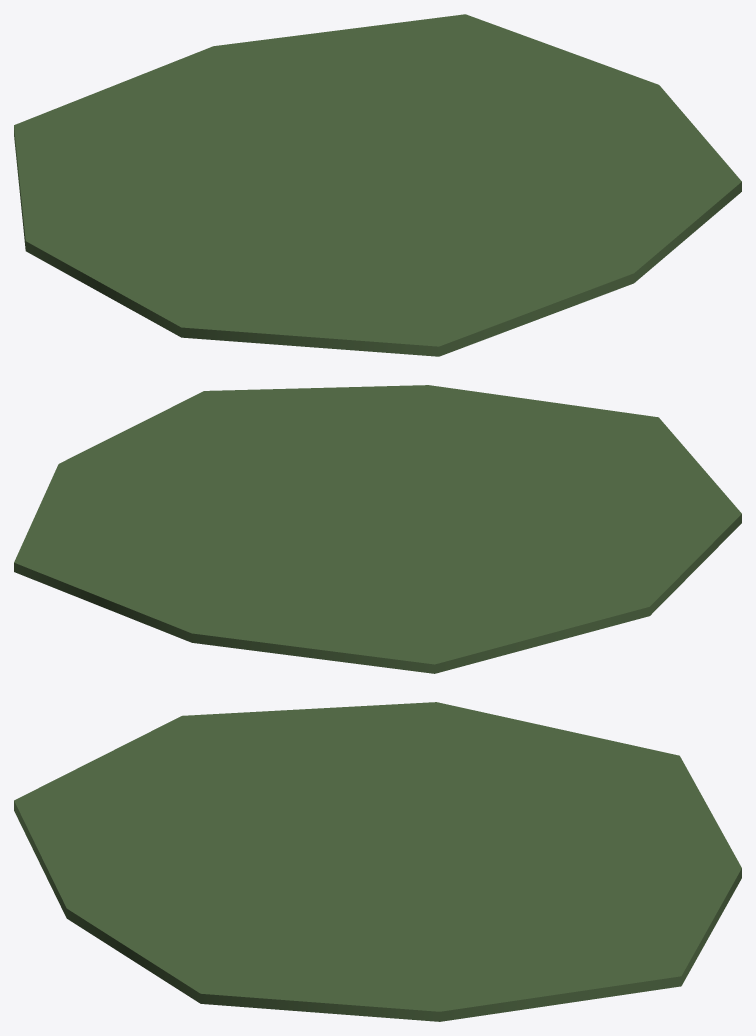
File: Lilypad_Whole.fbx
3 renders of one model, top to bottom at view 1: azimuth 30°, elevation 25°; view 2: azimuth 150°, elevation 25°; view 3: azimuth 270°, elevation 25°, orthographic. The views are drawn at different scales.
Parts seen in each view (by area): view 1: Lilypad.Whole; view 2: Lilypad.Whole; view 3: Lilypad.Whole.
Part boxes in pixels (bbox=[...]): Lilypad.Whole: bbox=[14, 14, 741, 356]; Lilypad.Whole: bbox=[14, 385, 741, 673]; Lilypad.Whole: bbox=[14, 702, 741, 1021].
Size of the model in its own units: 120 by 1.82 by 119.
